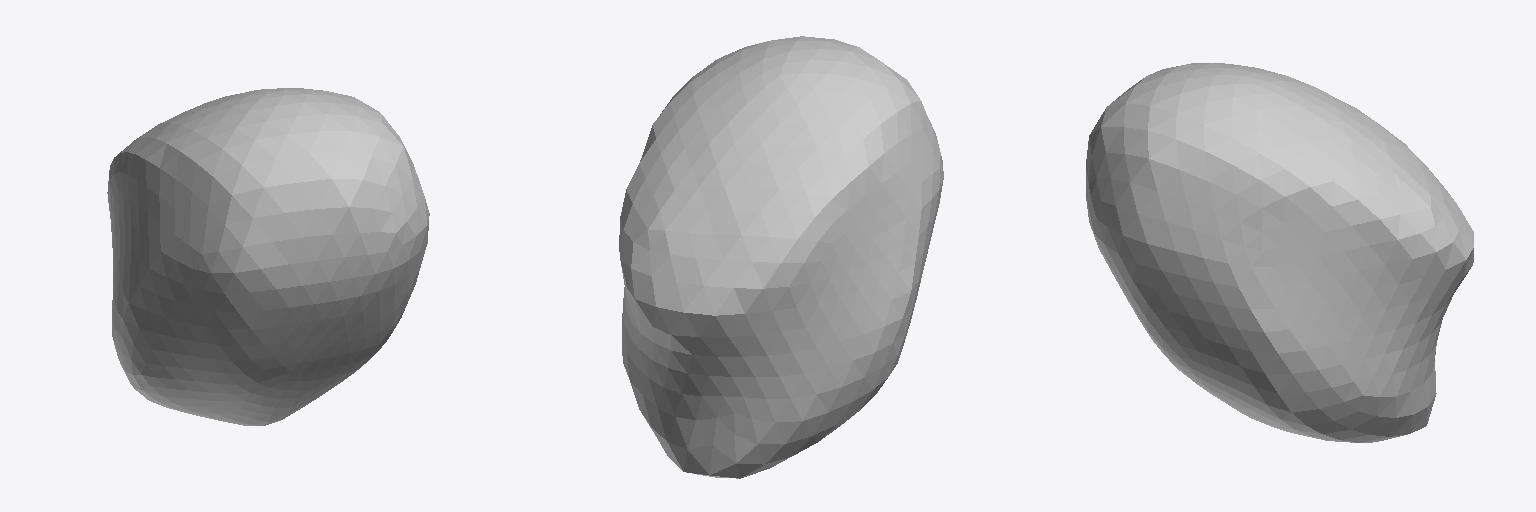
Rendered from Hero_Helmet.obj.
3 renders of one model, left to right at view 1: azimuth 30°, elevation 25°; view 2: azimuth 150°, elevation 25°; view 3: azimuth 270°, elevation 25°, orthographic.
Visible parts, largest first — view 1: Icosphere; view 2: Icosphere; view 3: Icosphere.
Part boxes in pixels (x1,y1,x2,y2): Icosphere: (107,88,429,425); Icosphere: (619,36,943,478); Icosphere: (1086,63,1473,442).
Size of the model in its own units: 1.18 by 1.47 by 1.47.